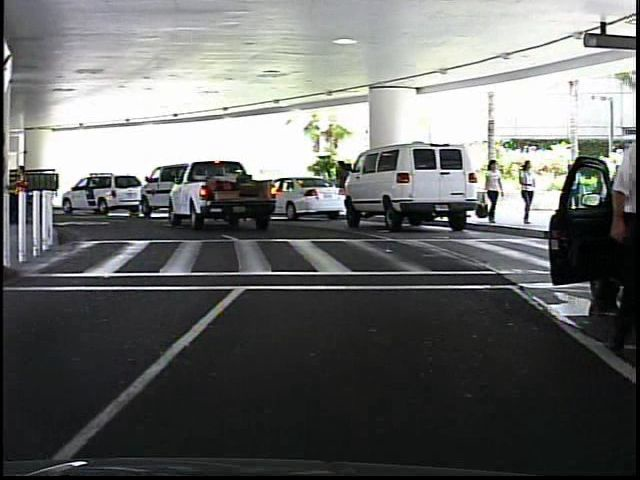person: (589, 108, 640, 340), (511, 157, 537, 228), (480, 157, 499, 226), (332, 155, 353, 216)
